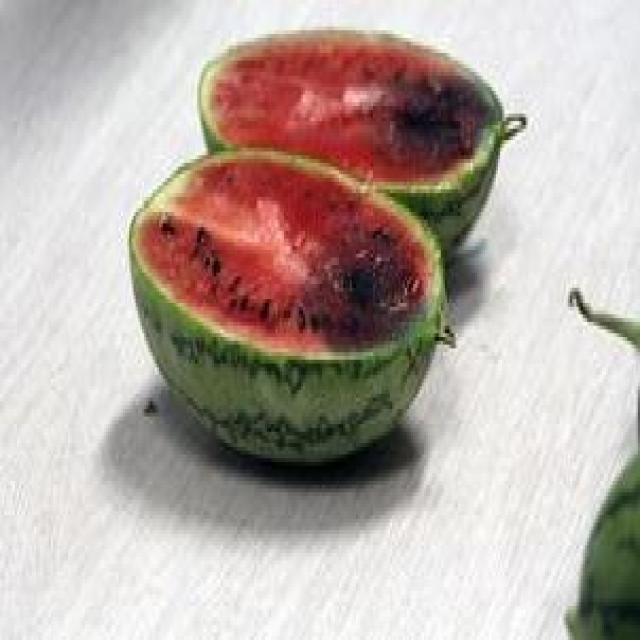Wet Waste: (127, 23, 528, 462), (557, 443, 638, 633)
